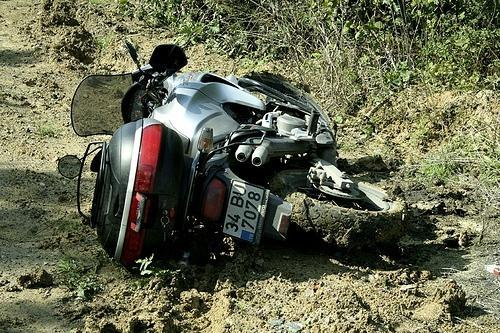motorcycle: (58, 41, 403, 269)
